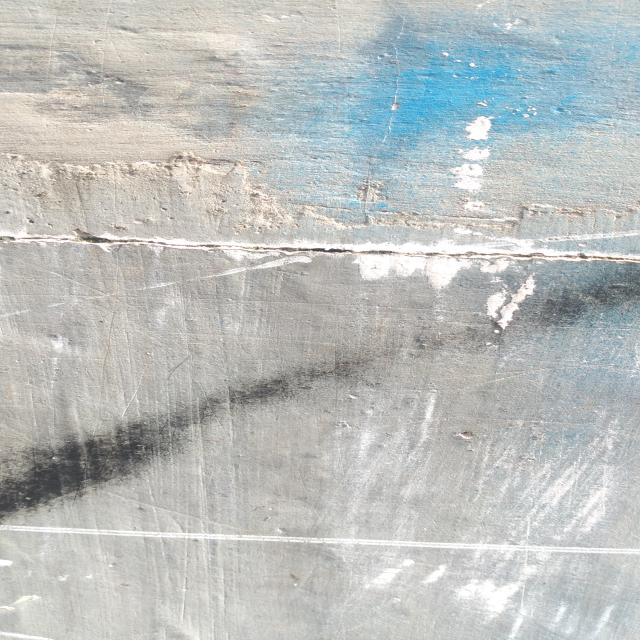Crack: (7, 232, 638, 270)
